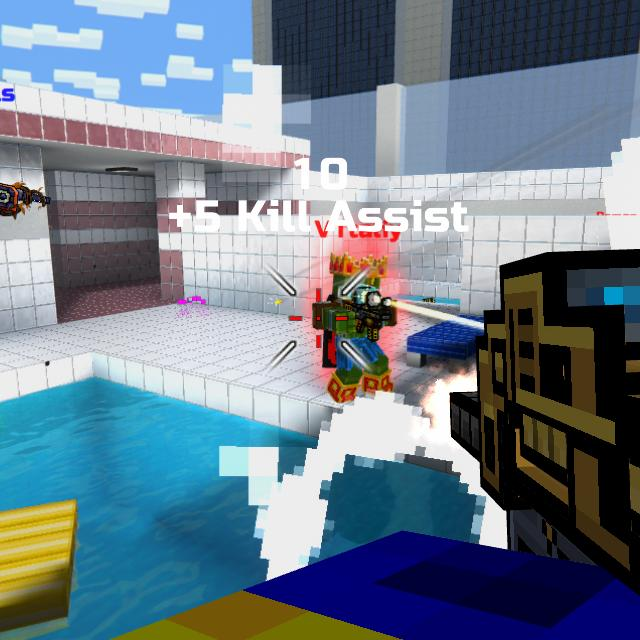Enemy: (312, 258, 398, 406)
